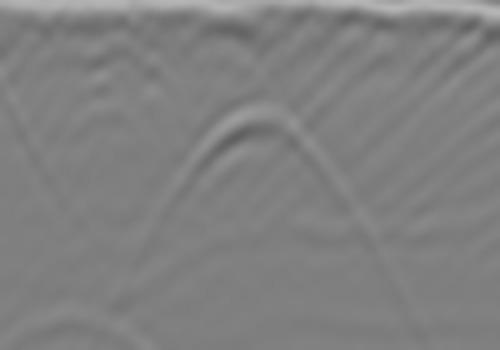hyperbola: (159, 98, 359, 215)
